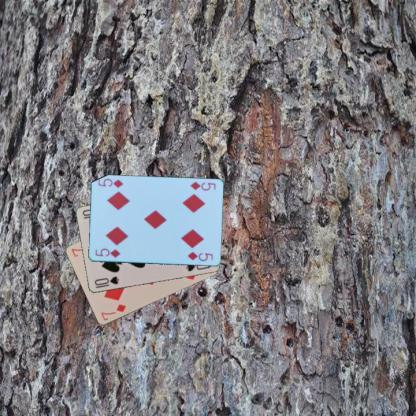10s: (92, 274, 120, 286)
5d: (92, 246, 121, 259), (188, 180, 216, 192)
7d: (98, 301, 127, 322)
